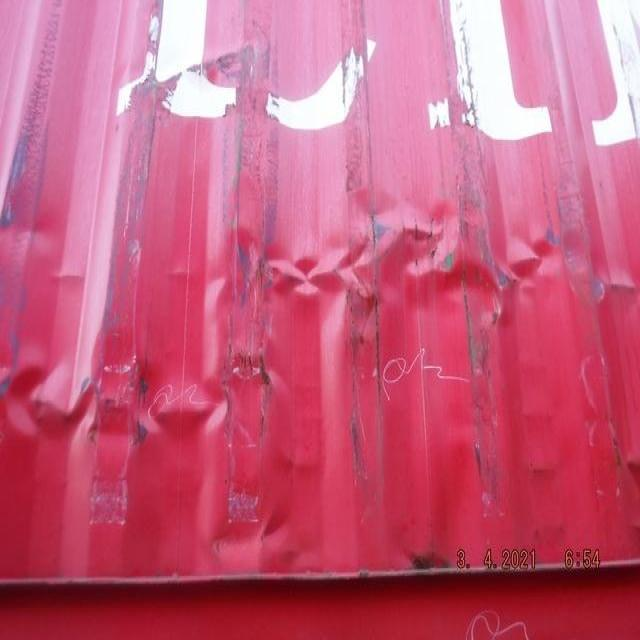dent: (2, 327, 324, 575), (203, 180, 616, 329), (2, 165, 115, 293)
